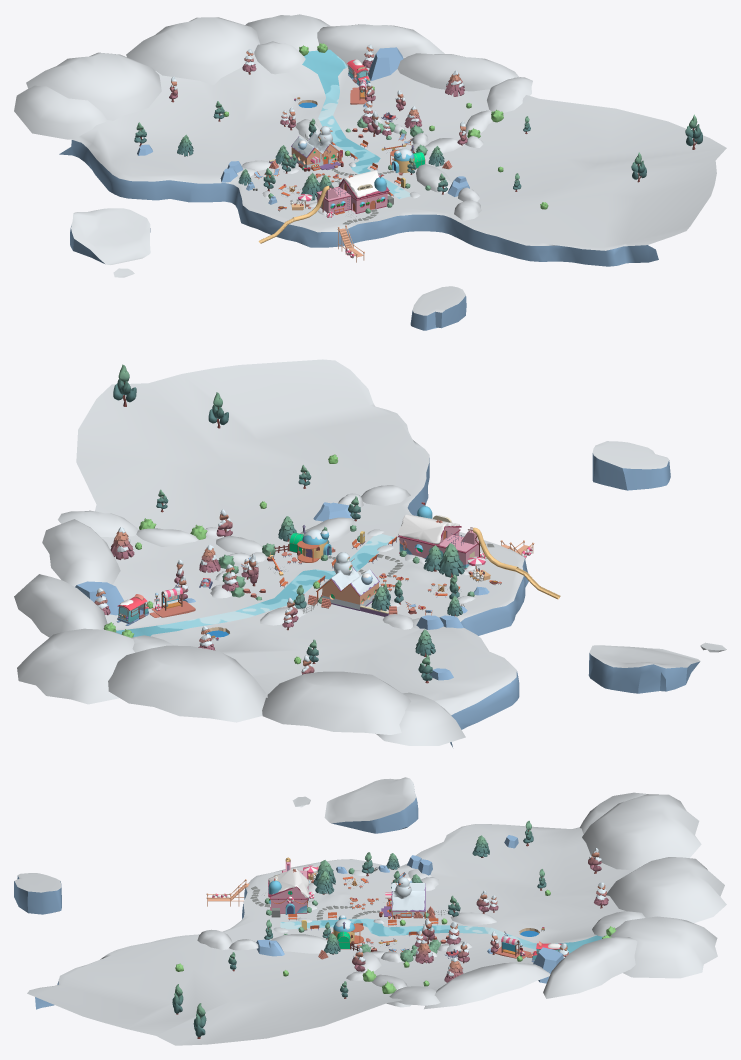
Rendered from Individual_PudgyPort_03.fbx.
The picture shows the model from 3 angles, top to bottom: view 1: azimuth 30°, elevation 25°; view 2: azimuth 150°, elevation 25°; view 3: azimuth 270°, elevation 25°; orthographic projection. The views are drawn at different scales.
Parts seen in each view (by area): view 1: polySurface39, pasted__SnowPatch22, pasted__SnowPatch23, pasted__SnowPatch24, pasted__SnowPatch26, pasted__SnowPatch25, polySurface23, pasted__SnowPatch28, polySurface2, pasted__SnowPatch27, pasted__SnowPatch31, pasted__Object_IceRock9 (+4 smaller); view 2: polySurface39, pasted__SnowPatch22, pasted__SnowPatch23, pasted__SnowPatch28, pasted__SnowPatch26, pasted__SnowPatch25, polySurface23, pasted__SnowPatch24, polySurface2, pasted__SnowPatch31, pCylinder12, pasted__pasted__Foliage_Bush17 (+8 smaller); view 3: polySurface39, pasted__SnowPatch23, pasted__SnowPatch22, pasted__SnowPatch28, pasted__SnowPatch26, pasted__SnowPatch25, polySurface23, polySurface2, pasted__SnowPatch8, pasted__SnowPatch31, pasted__SnowPatch24, pCylinder12 (+7 smaller).
Part boxes in pixels (x1=…): polySurface39: x1=59, y1=49, x2=726, y2=330; pasted__SnowPatch22: x1=126, y1=17, x2=260, y2=85; pasted__SnowPatch23: x1=26, y1=52, x2=161, y2=120; pasted__SnowPatch24: x1=14, y1=85, x2=106, y2=139; pasted__SnowPatch26: x1=317, y1=24, x2=444, y2=66; pasted__SnowPatch25: x1=397, y1=53, x2=518, y2=91; polySurface23: x1=258, y1=170, x2=389, y2=243; pasted__SnowPatch28: x1=245, y1=14, x2=330, y2=51; polySurface2: x1=291, y1=126, x2=340, y2=170; pasted__SnowPatch27: x1=254, y1=41, x2=305, y2=74; pasted__SnowPatch31: x1=487, y1=77, x2=532, y2=112; pasted__Object_IceRock9: x1=367, y1=47, x2=403, y2=80; polySurface39: x1=76, y1=359, x2=726, y2=747; pasted__SnowPatch22: x1=108, y1=645, x2=265, y2=722; pasted__SnowPatch23: x1=262, y1=671, x2=410, y2=734; pasted__SnowPatch28: x1=17, y1=628, x2=134, y2=704; pasted__SnowPatch26: x1=14, y1=574, x2=107, y2=637; pasted__SnowPatch25: x1=42, y1=519, x2=120, y2=586; polySurface23: x1=398, y1=514, x2=560, y2=599; pasted__SnowPatch24: x1=375, y1=692, x2=465, y2=745; polySurface2: x1=316, y1=552, x2=379, y2=610; pasted__SnowPatch31: x1=58, y1=510, x2=138, y2=537; pCylinder12: x1=289, y1=525, x2=331, y2=562; pasted__pasted__Foliage_Bush17: x1=218, y1=525, x2=474, y2=603; polySurface39: x1=14, y1=777, x2=634, y2=1045; pasted__SnowPatch23: x1=582, y1=794, x2=701, y2=870; pasted__SnowPatch22: x1=606, y1=857, x2=726, y2=922; pasted__SnowPatch28: x1=609, y1=916, x2=717, y2=978; pasted__SnowPatch26: x1=543, y1=937, x2=637, y2=998; pasted__SnowPatch25: x1=424, y1=962, x2=550, y2=1009; polySurface23: x1=268, y1=857, x2=309, y2=913; polySurface2: x1=381, y1=877, x2=425, y2=916; pasted__SnowPatch8: x1=270, y1=934, x2=329, y2=953; pasted__SnowPatch31: x1=389, y1=986, x2=440, y2=1005; pasted__SnowPatch24: x1=579, y1=792, x2=648, y2=834; pCylinder12: x1=333, y1=919, x2=363, y2=949.
Bounding box in the file's own units: 11536 × 1360 × 12005.
